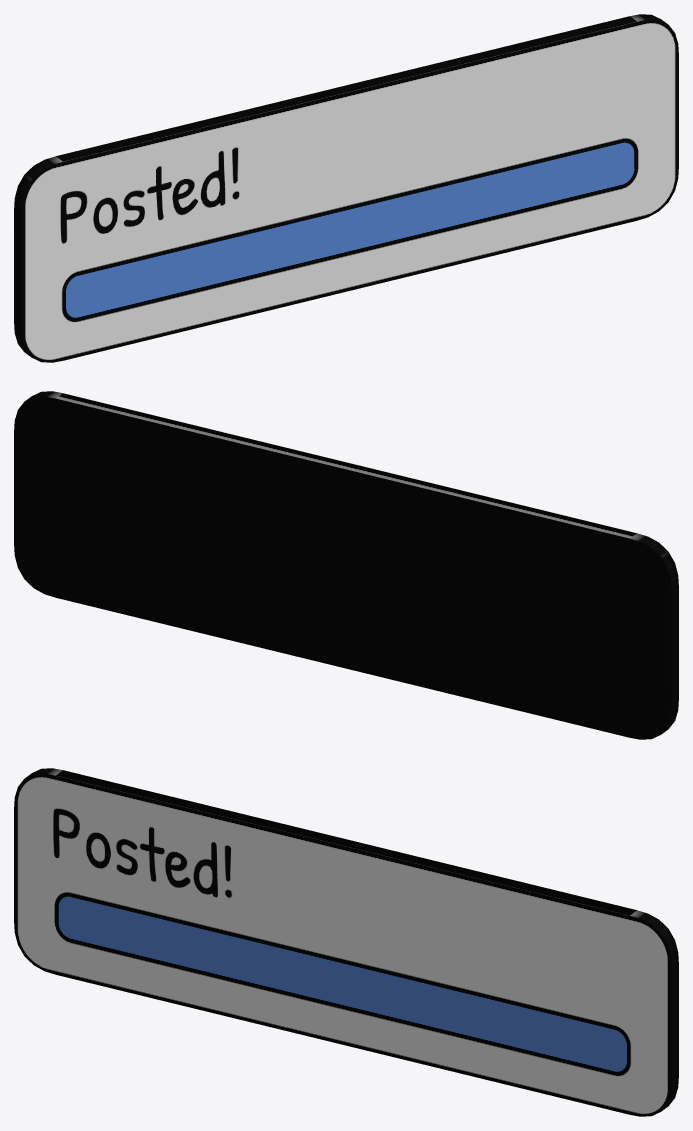
The model's file is Ep5_Notification-D.fbx.
3 views of the same model, one above another, from view 1: azimuth 30°, elevation 25°; view 2: azimuth 150°, elevation 25°; view 3: azimuth 330°, elevation 25° (orthographic).
Visible parts, largest first — view 1: Notifications-D; view 2: Notifications-D; view 3: Notifications-D.
Boxes of the visible parts, left/top/right/bottom form: Notifications-D: left=14, top=14, right=678, bottom=362; Notifications-D: left=14, top=391, right=678, bottom=739; Notifications-D: left=14, top=768, right=678, bottom=1116.
Bounding box in the file's own units: 1167 × 338 × 22.62.
